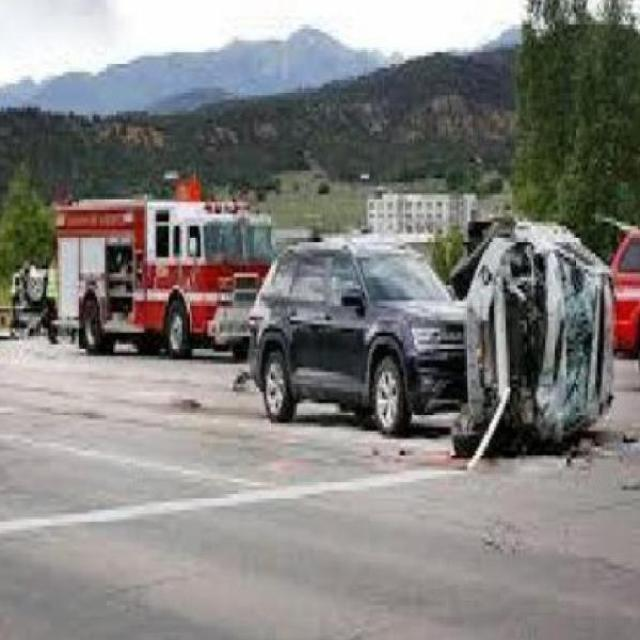accident: (245, 217, 615, 455)
